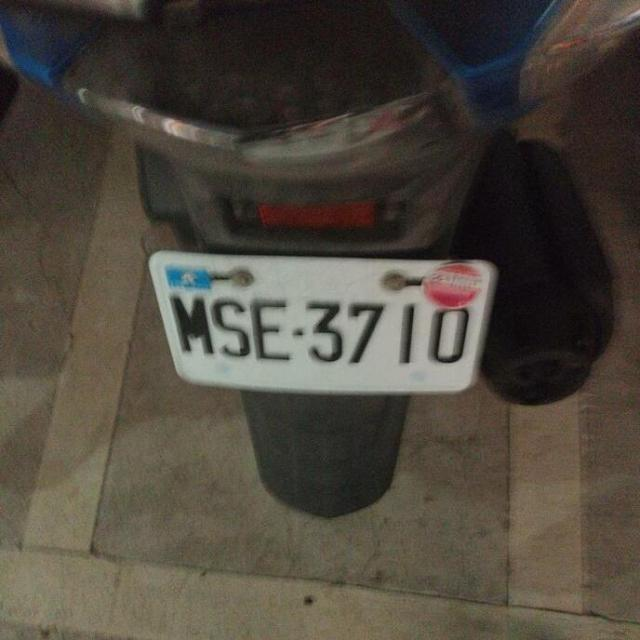W: (141, 226, 505, 414)
